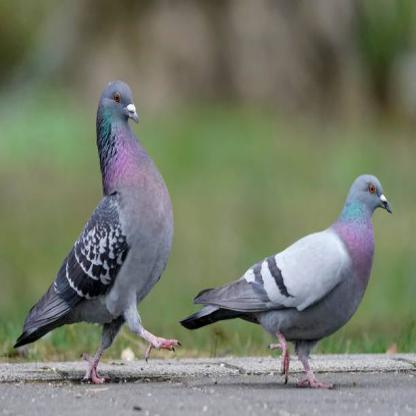Rock Pigeon: (16, 79, 175, 364), (188, 168, 396, 357)
